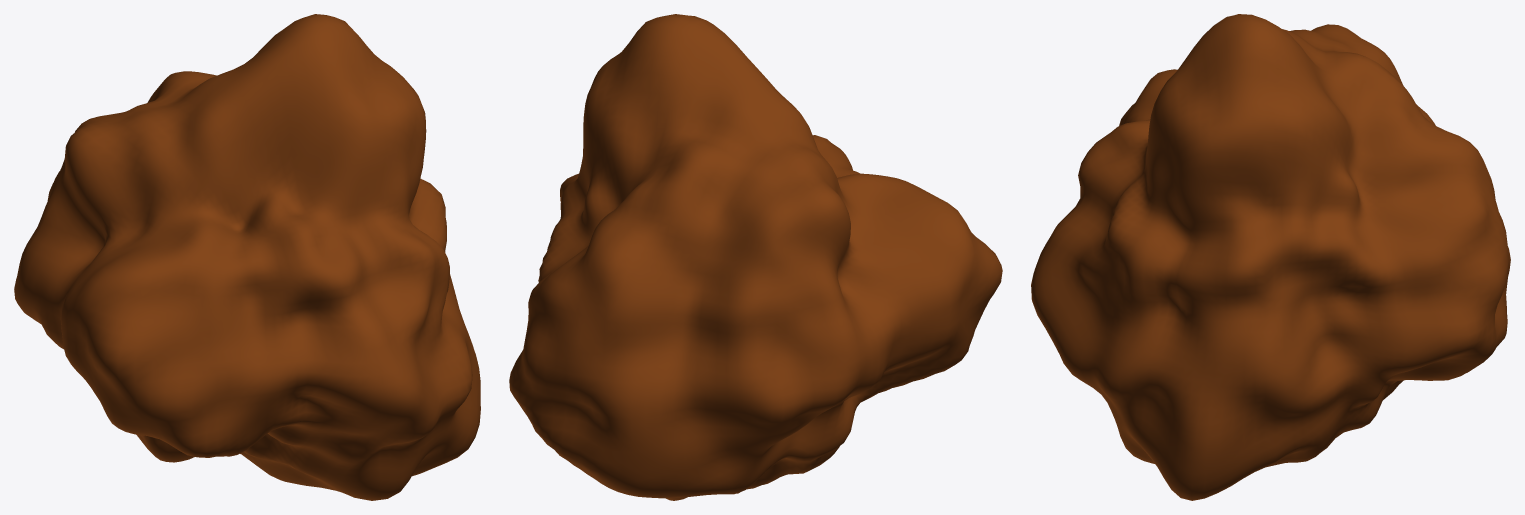
File: asteroid2.fbx
The picture shows the model from 3 angles, left to right: view 1: azimuth 30°, elevation 25°; view 2: azimuth 150°, elevation 25°; view 3: azimuth 270°, elevation 25°; orthographic projection. The views are drawn at different scales.
Parts seen in each view (by area): view 1: Cube; view 2: Cube; view 3: Cube.
Part boxes in pixels (x1,y1,x2,y2): Cube: (14,14,480,500); Cube: (509,14,1002,500); Cube: (1031,14,1510,500).
Bounding box in the file's own units: 184 × 198 × 192.
